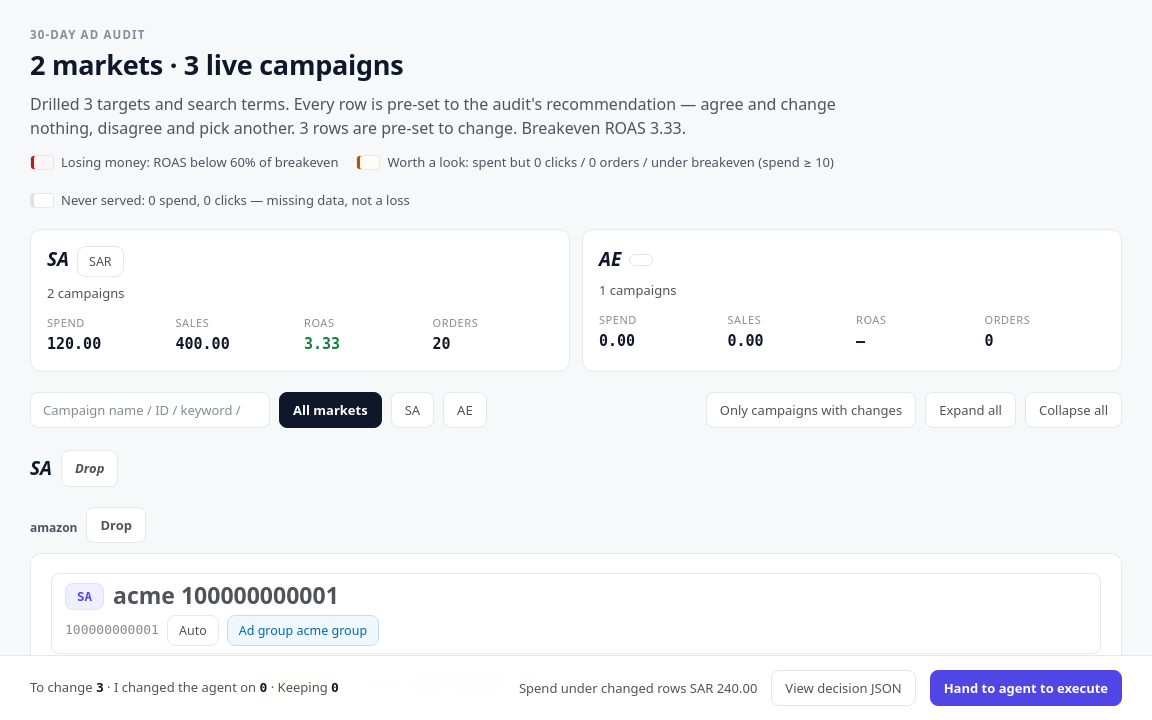
scope controls › a dropped block stays visible so the reviewer can see what they excluded
What coordinates should you click on to do the following:
click the 1st button "Drop"
I would click on:
 (90, 469)
Its box is x1=61 y1=450 x2=118 y2=487.
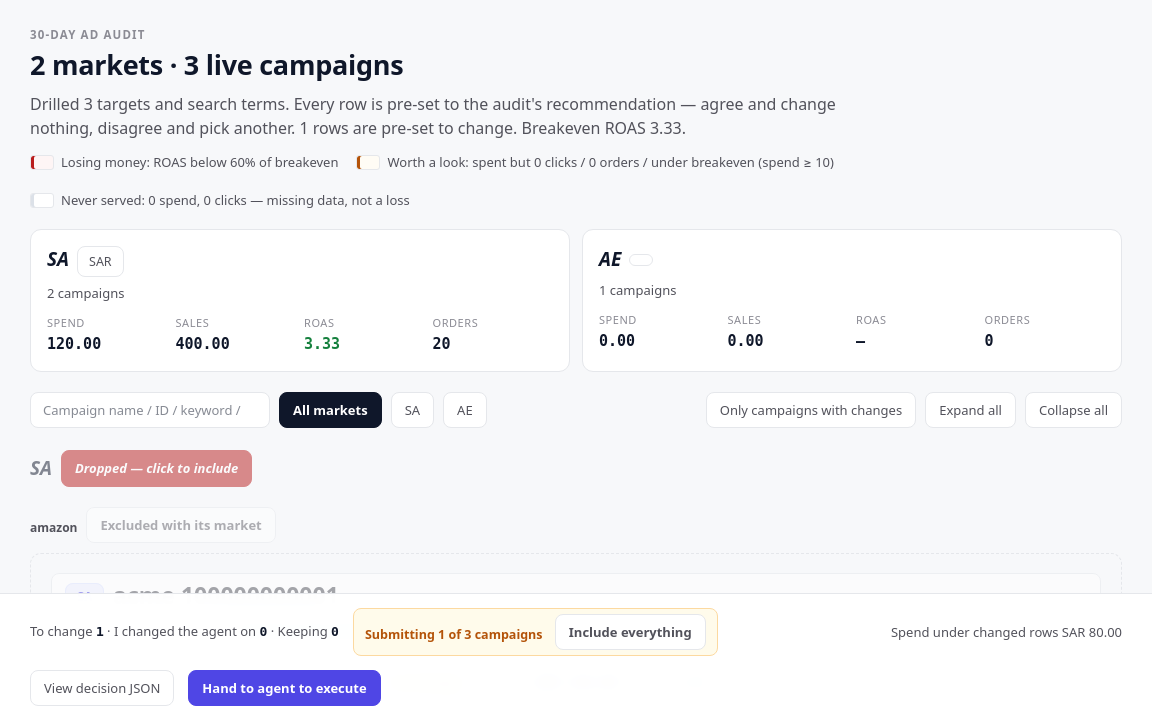
Now the number of buttons "Dropped — click to include" is 1, box x1=61 y1=450 x2=252 y2=487
Now the button "Excluded with its market" is shown, box x1=86 y1=507 x2=276 y2=543
